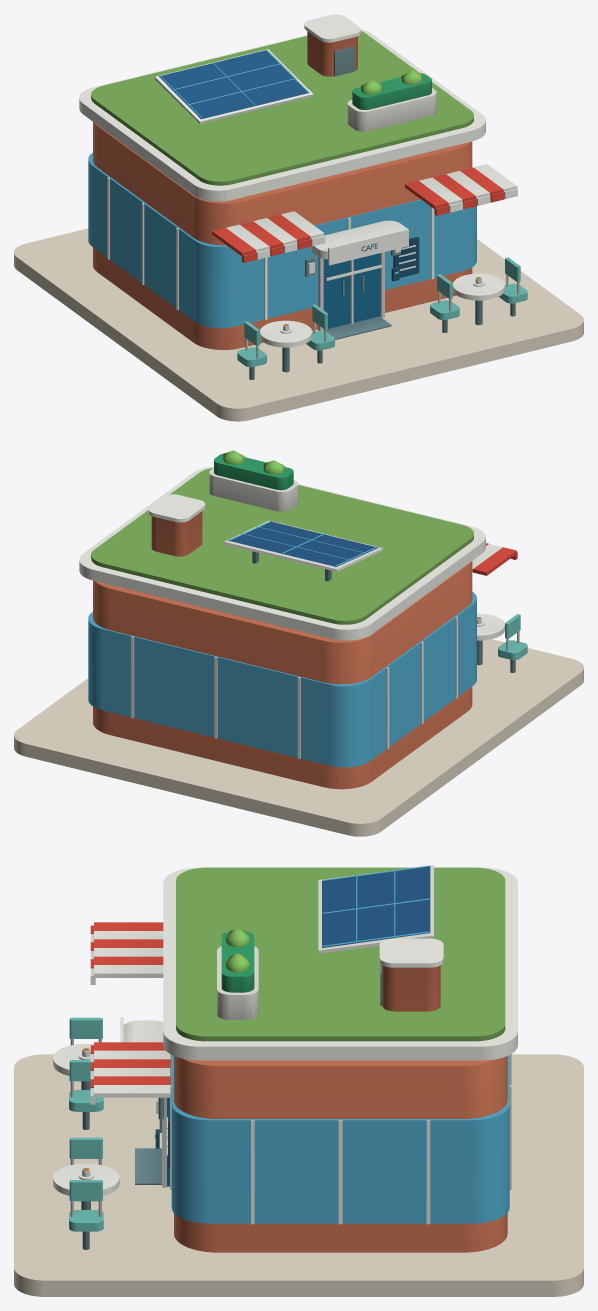
Rendered from corner-cafe.glb.
3 views of the same model, one above another, from view 1: azimuth 30°, elevation 25°; view 2: azimuth 150°, elevation 25°; view 3: azimuth 270°, elevation 25° (orthographic). The views are drawn at different scales.
Parts seen in each view (by area): view 1: cafe footing, glass vertical mullion, green roof, continuous blue glazing, cafe shell, photovoltaic cells, striped café shade, recessed entrance, cafe seat, roof access hatch, planter foliage, identity CAFE; view 2: continuous blue glazing, cafe footing, cafe shell, green roof, glass vertical mullion, photovoltaic cells, planter foliage, cafe seat, striped café shade, shrub tip; view 3: cafe footing, green roof, continuous blue glazing, cafe shell, glass vertical mullion, photovoltaic cells, striped café shade, cafe seat, roof access hatch, planter foliage, shrub tip.
Boxes of the visible parts, x1,y1,x2,y2 form: cafe footing: [14, 228, 583, 421]; glass vertical mullion: [79, 14, 519, 358]; green roof: [91, 31, 473, 185]; continuous blue glazing: [88, 50, 476, 328]; cafe shell: [93, 31, 472, 349]; photovoltaic cells: [159, 50, 309, 119]; striped café shade: [212, 167, 504, 262]; recessed entrance: [323, 253, 380, 329]; cafe seat: [237, 257, 527, 367]; roof access hatch: [249, 46, 515, 379]; planter foliage: [352, 73, 431, 109]; identity CAFE: [361, 236, 419, 281]; continuous blue glazing: [88, 520, 476, 767]; cafe footing: [14, 639, 583, 836]; cafe shell: [93, 511, 472, 789]; green roof: [91, 468, 473, 624]; glass vertical mullion: [79, 466, 519, 758]; photovoltaic cells: [228, 521, 378, 566]; planter foliage: [214, 453, 293, 490]; cafe seat: [498, 614, 527, 660]; striped café shade: [473, 543, 517, 575]; shrub tip: [223, 450, 284, 474]; cafe footing: [14, 1054, 583, 1296]; green roof: [176, 867, 505, 1041]; continuous blue glazing: [171, 865, 509, 1223]; cafe shell: [174, 965, 507, 1252]; glass vertical mullion: [53, 865, 517, 1224]; photovoltaic cells: [322, 866, 430, 947]; striped café shade: [90, 922, 170, 1087]; cafe seat: [69, 1017, 103, 1231]; roof access hatch: [81, 964, 382, 1249]; planter foliage: [221, 931, 254, 992]; shrub tip: [226, 928, 249, 972].
Bounding box in the file's own units: 3.85 × 2.27 × 4.1.
